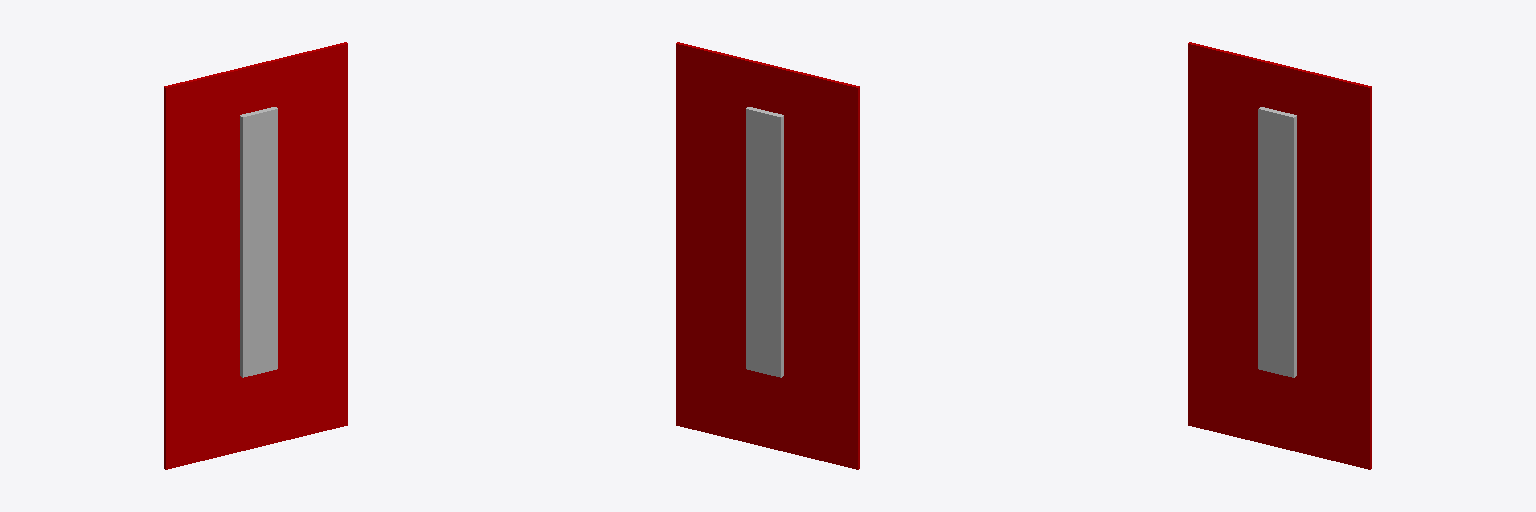
The model's file is room1.obj.
3 renders of one model, left to right at view 1: azimuth 30°, elevation 25°; view 2: azimuth 150°, elevation 25°; view 3: azimuth 330°, elevation 25°, orthographic.
Visible parts, largest first — view 1: Cube, Text; view 2: Cube, Text; view 3: Cube, Text.
Part boxes in pixels (x1,y1,x2,y2): Cube: (164, 42, 347, 469); Text: (240, 107, 277, 377); Cube: (676, 42, 859, 469); Text: (746, 107, 783, 377); Cube: (1188, 42, 1371, 469); Text: (1258, 107, 1296, 377).
Bounding box in the file's own units: 1 × 2 × 0.08.